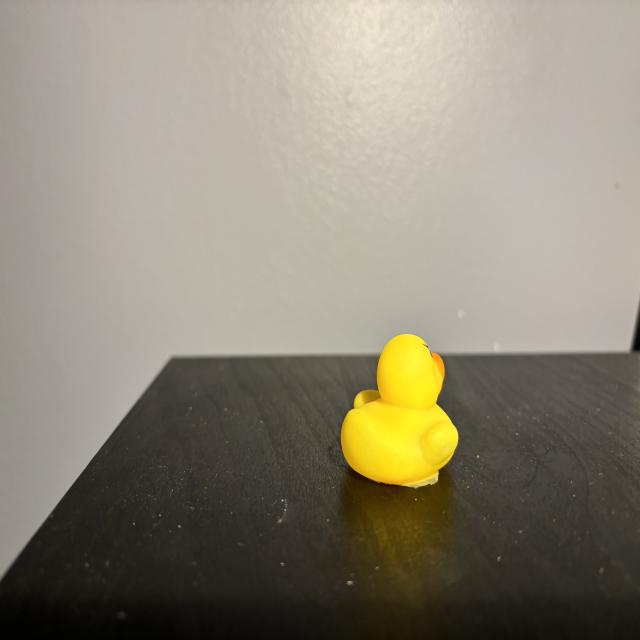duck_regular: (342, 335, 460, 489)
